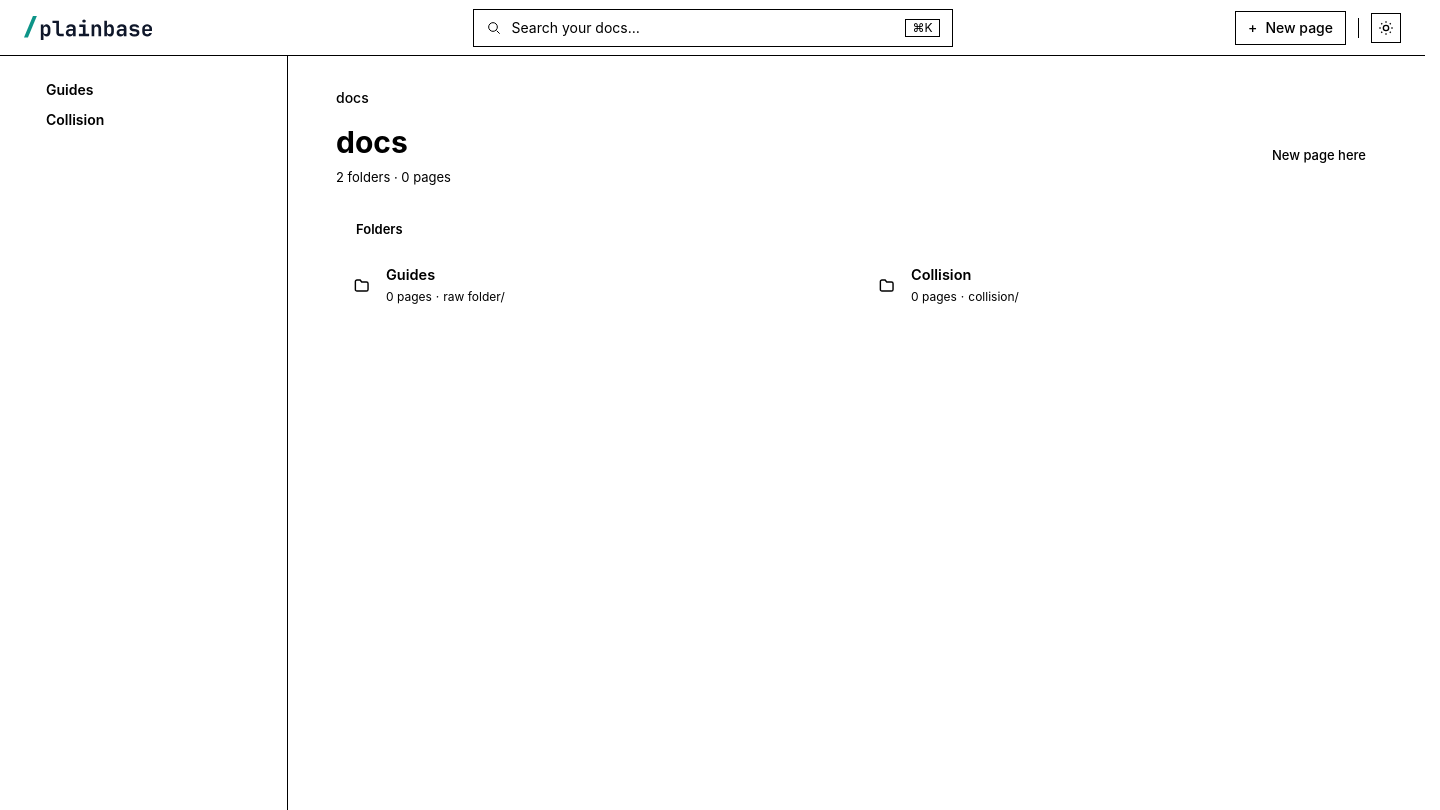
Test case: new page modal navigation › passes through the mocked typed-create route message: An arbitrary server message passes through unchanged.
Click the link "+ New page" at (1291, 28), box [1235, 10, 1346, 44]
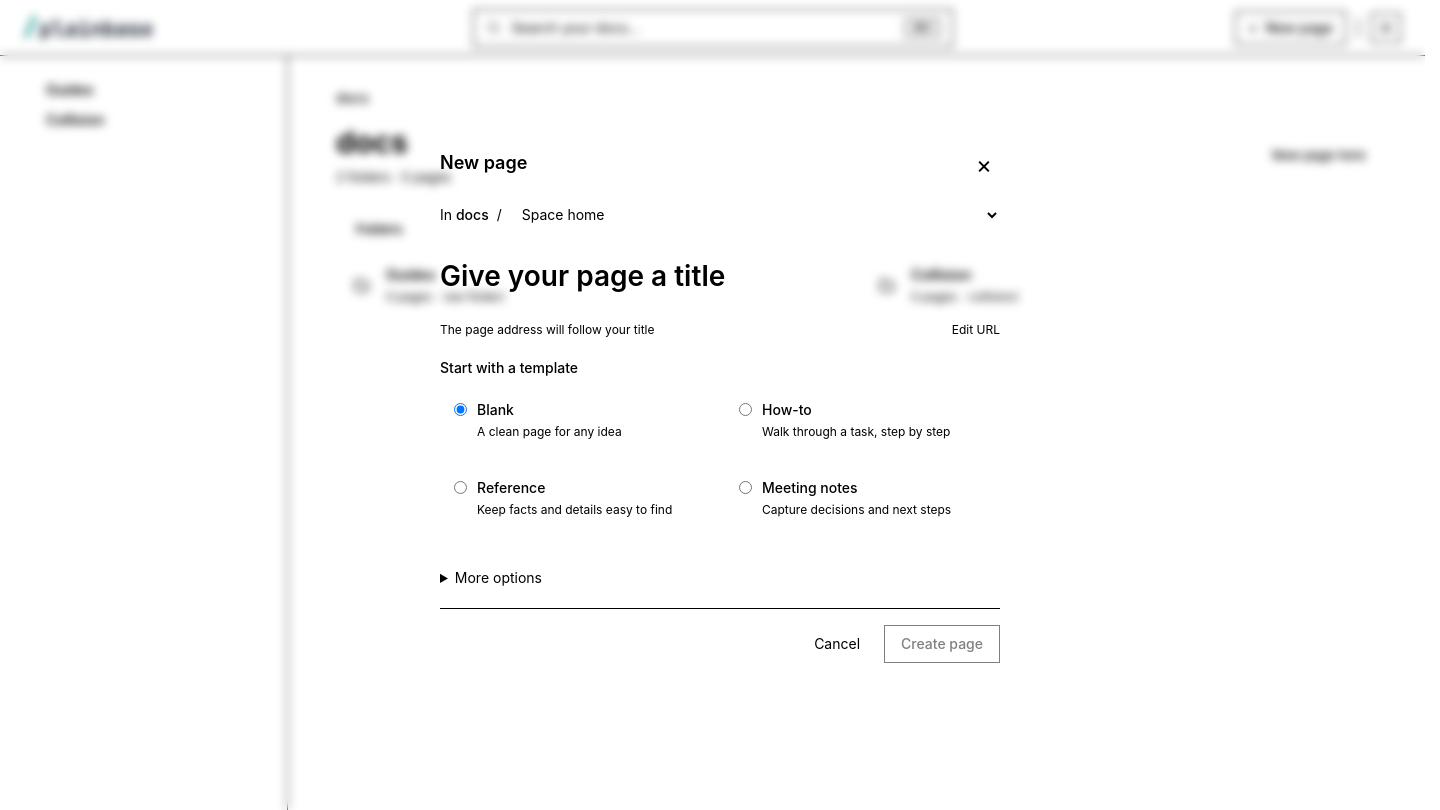
expect the dialog "New page" is shown: met, box [416, 123, 1024, 687]
Type "Index" into the field labelled "title" at (720, 276), box [440, 251, 1000, 302]
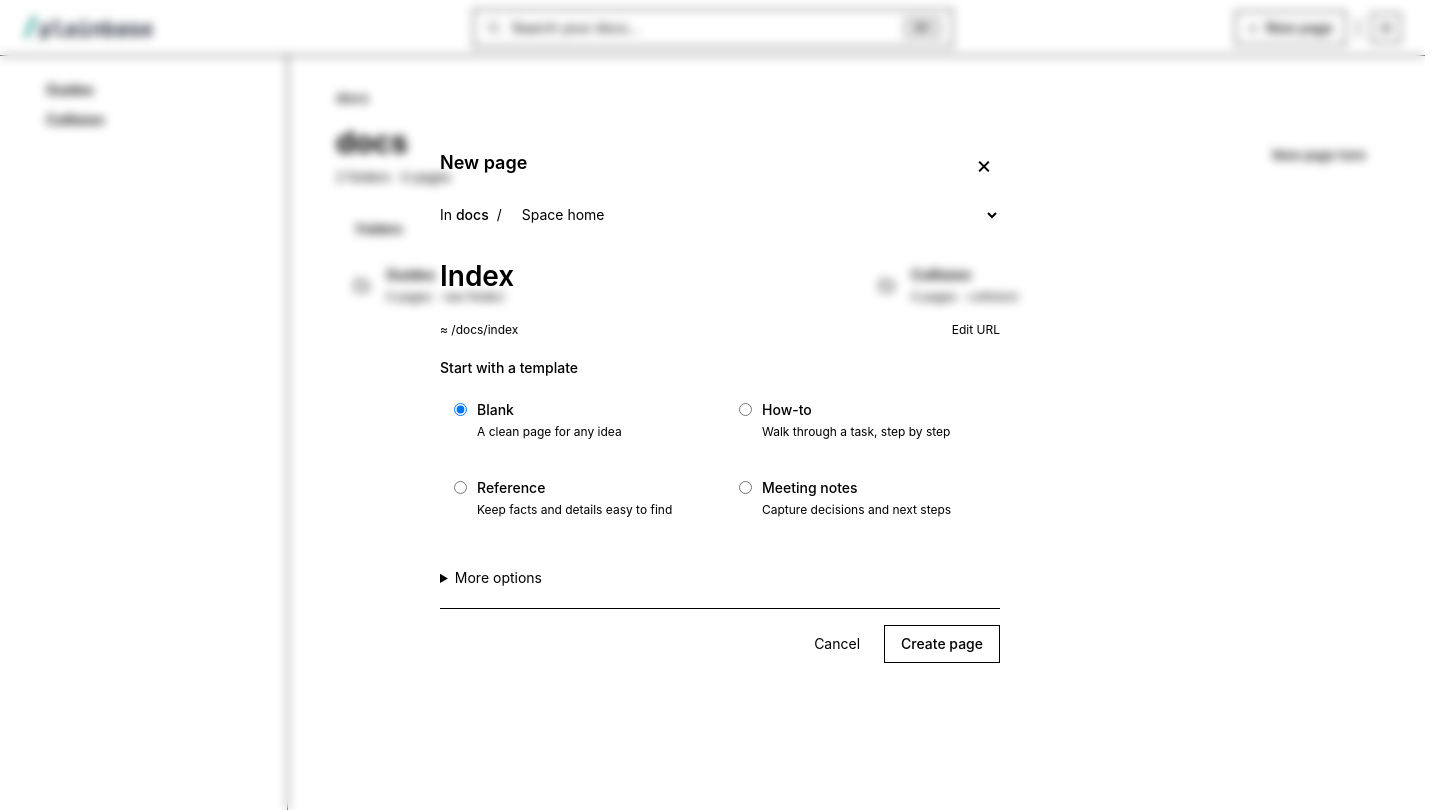
Click the button "Create page" at (942, 644), box [884, 625, 1000, 663]
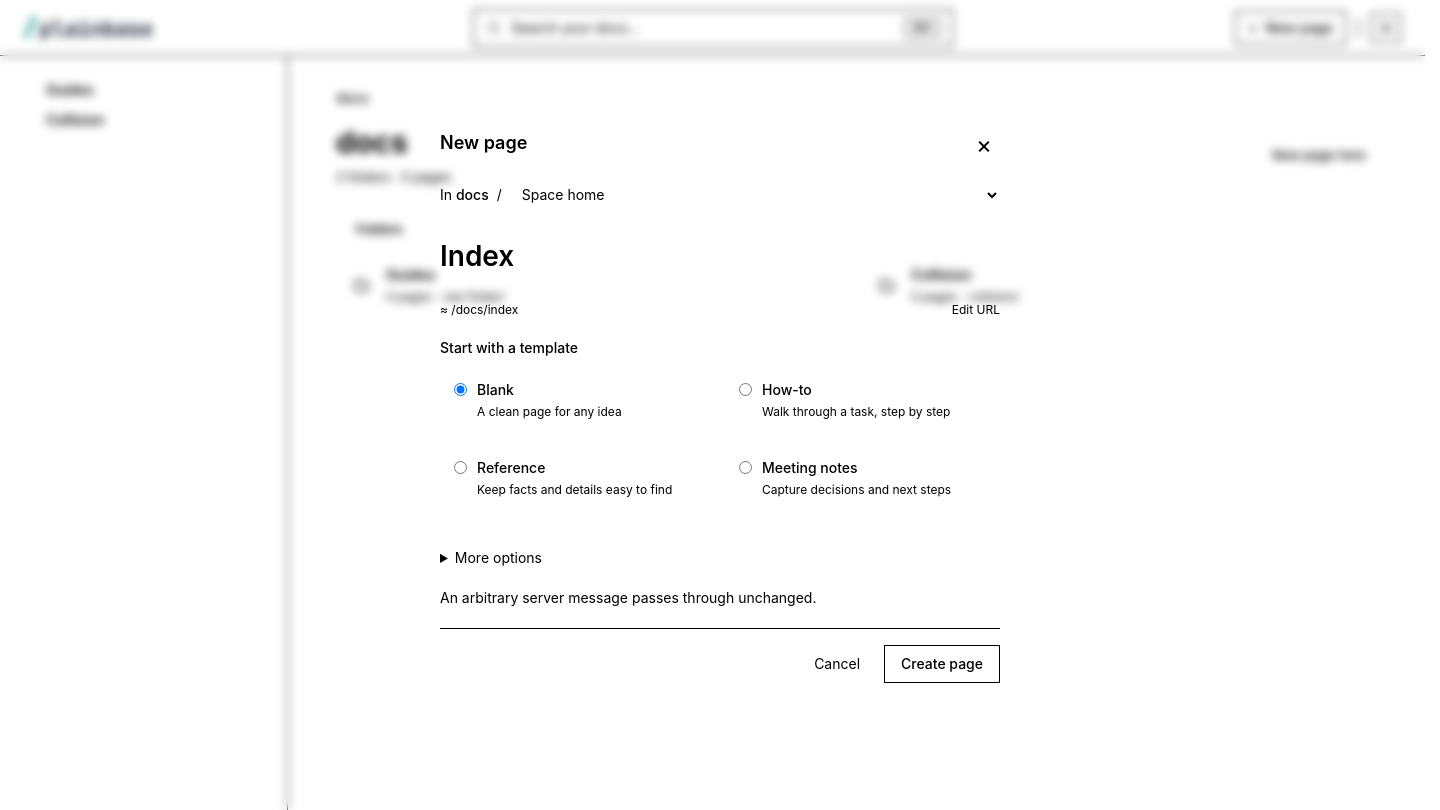
expect the dialog "New page" is shown: met, box [416, 103, 1024, 707]
expect the text "Reference" is shown: met, box [477, 459, 545, 476]
expect the message reads "An arbitrary server message passes through unchanged.": met, box [440, 589, 816, 606]
